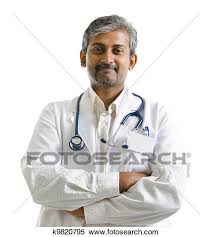Indian_Male: (83, 25, 136, 90)
